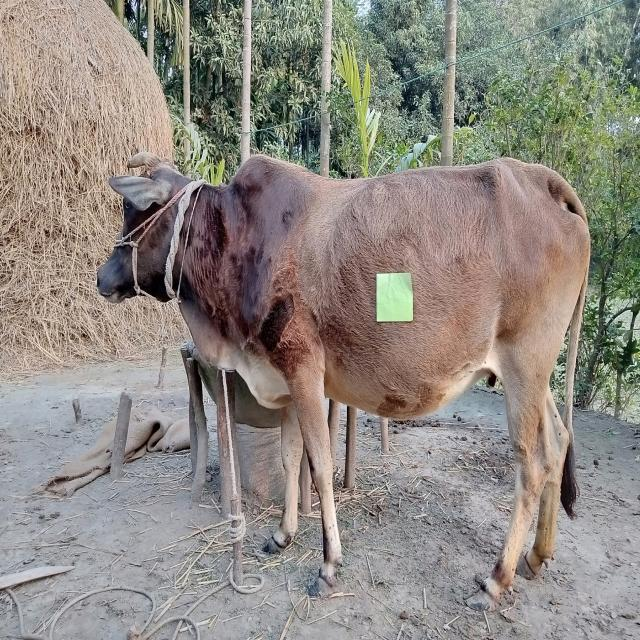badan_sapi: (278, 163, 548, 404)
sapi: (93, 150, 596, 598)
